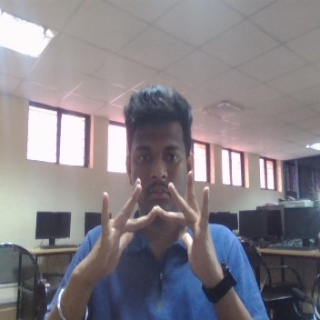Internet: (76, 170, 221, 281)
